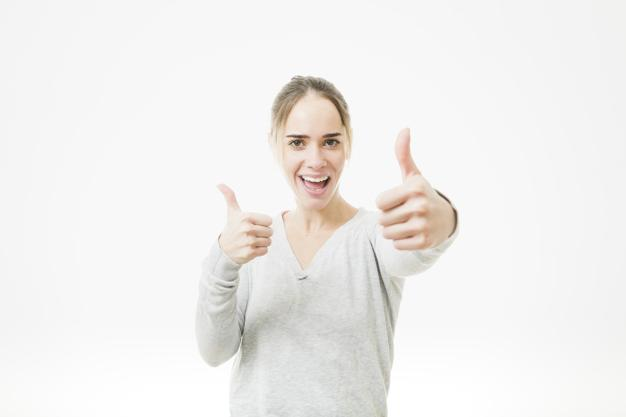thumbsup: (375, 127, 435, 250), (216, 183, 274, 257)
